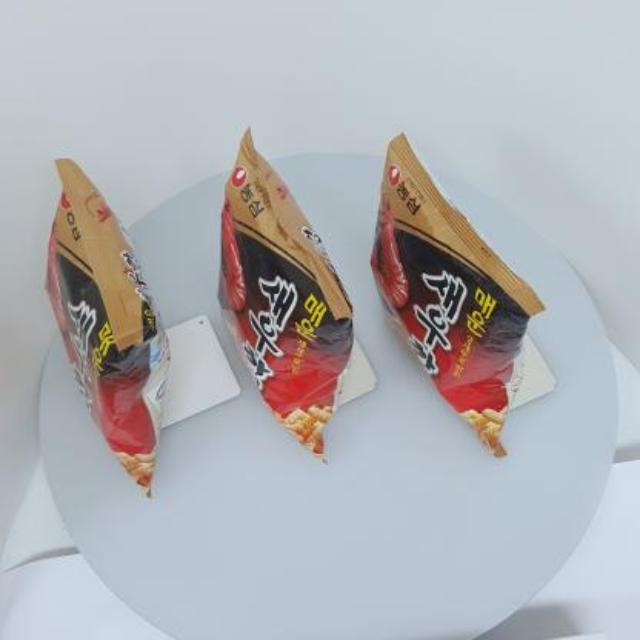snack_bag: (38, 117, 558, 507)
